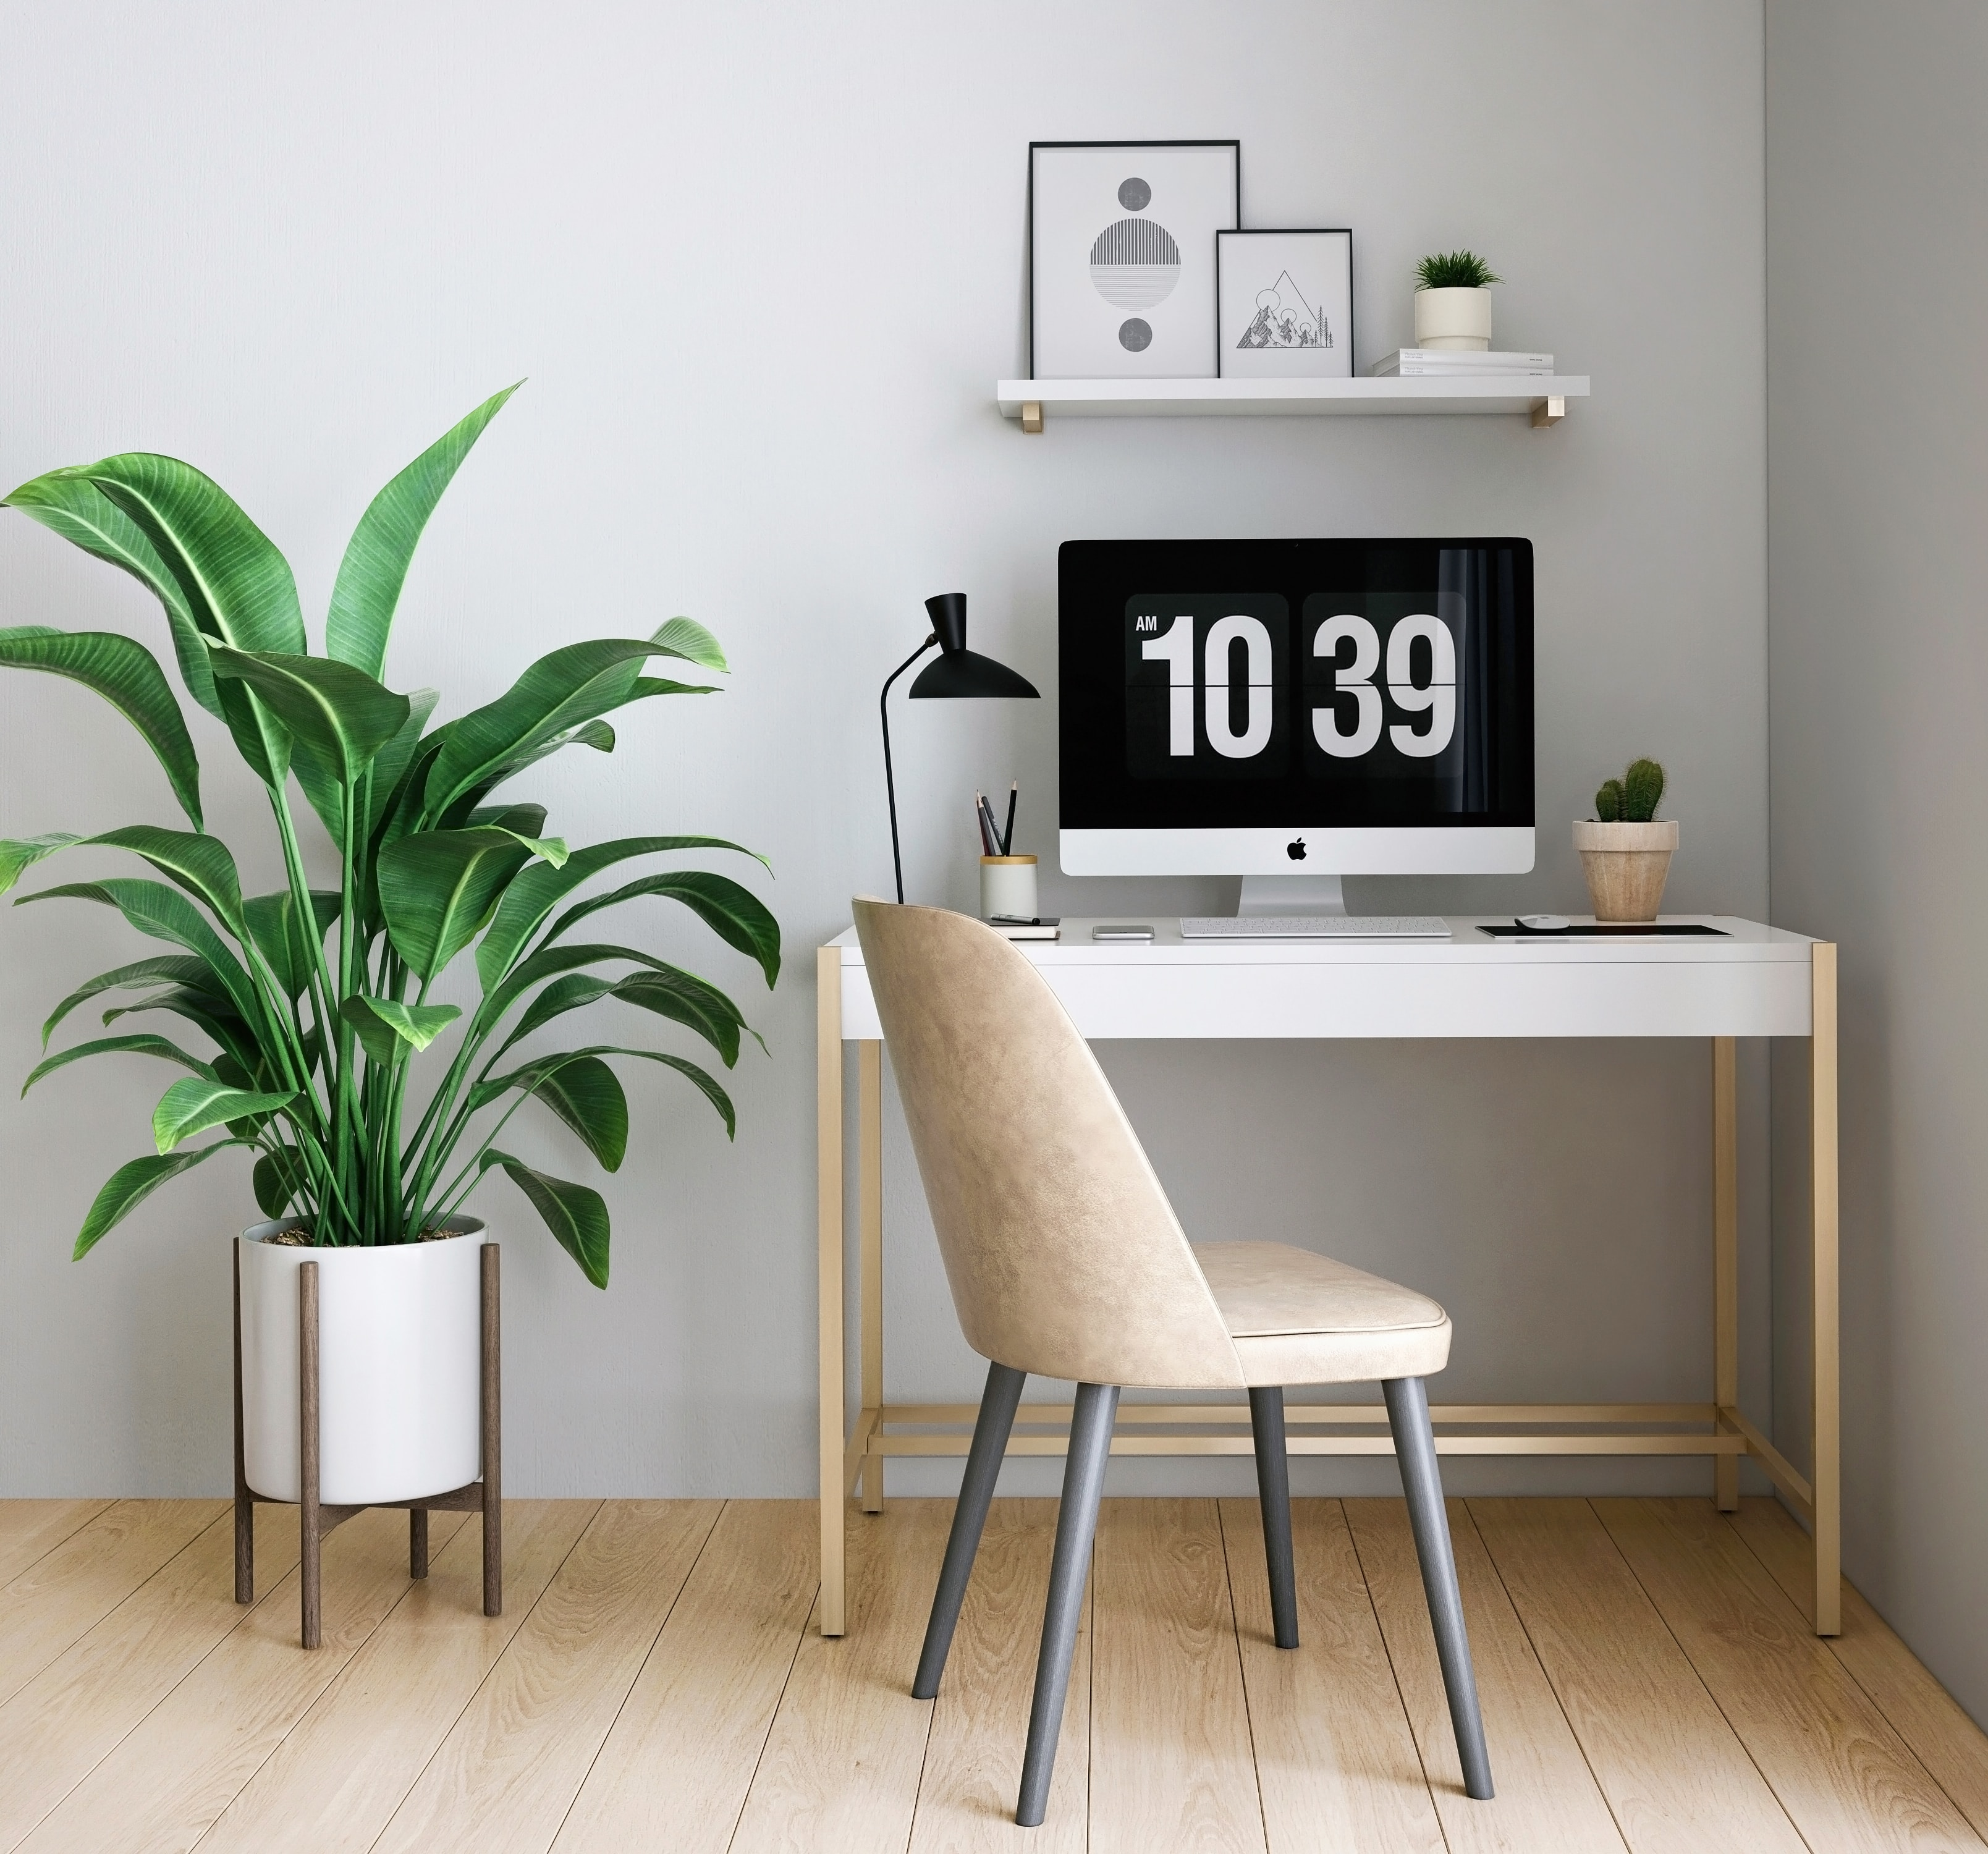Chair: (849, 882, 1528, 1833)
Painting: (1005, 118, 1246, 383), (1213, 213, 1345, 385)
Plant: (0, 288, 786, 1673)
